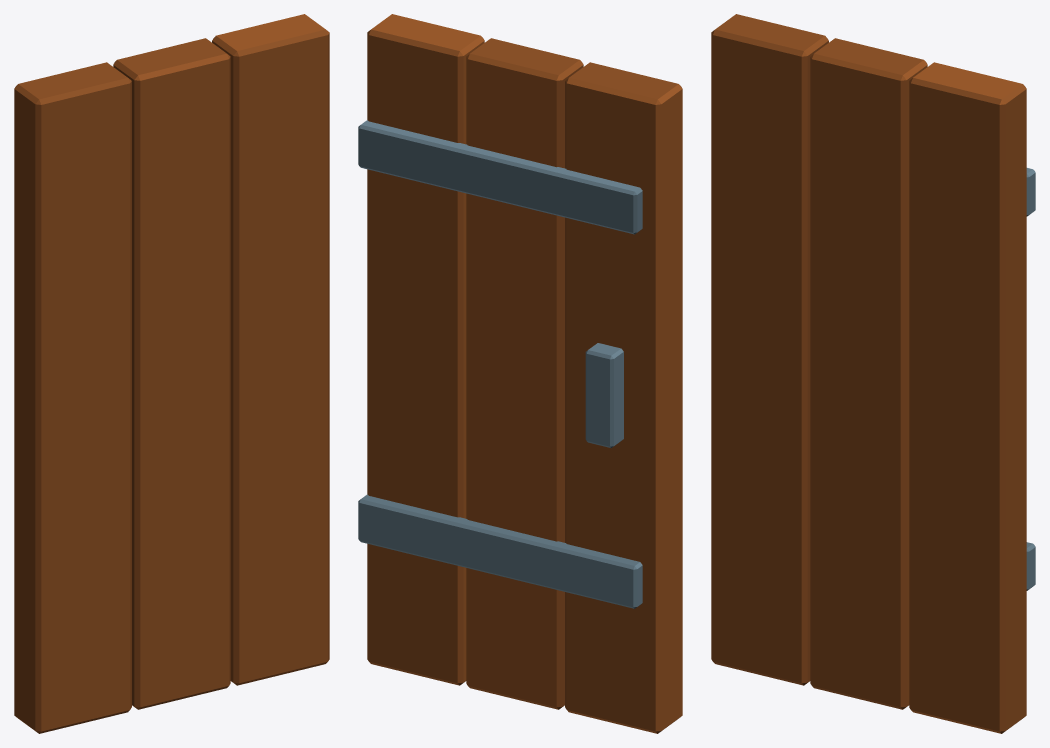
Rendered from A24_Window_Shutter.fbx.
3 renders of one model, left to right at view 1: azimuth 30°, elevation 25°; view 2: azimuth 150°, elevation 25°; view 3: azimuth 330°, elevation 25°, orthographic.
Parts seen in each view (by area): view 1: A24_Window_Shutter; view 2: A24_Window_Shutter; view 3: A24_Window_Shutter.
Boxes of the visible parts, left/top/right/bottom form: A24_Window_Shutter: left=14, top=14, right=329, bottom=733; A24_Window_Shutter: left=358, top=14, right=682, bottom=733; A24_Window_Shutter: left=711, top=14, right=1035, bottom=733.
Bounding box in the file's own units: 0.468 × 0.96 × 0.117.
2 materials, 2 textured.
